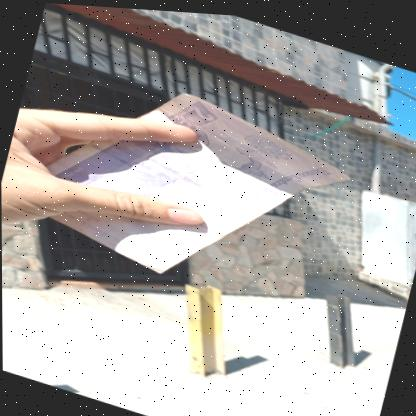ten-back-vef: (32, 54, 360, 319)
